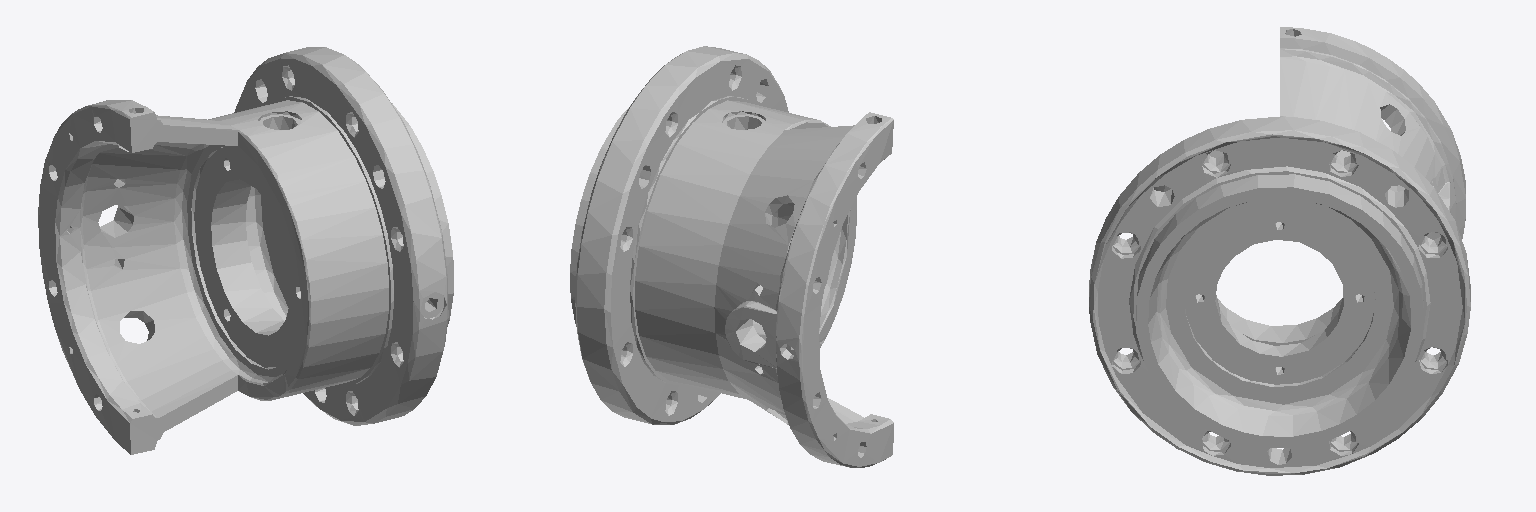
The model's file is end seal housing.obj.
The picture shows the model from 3 angles: view 1: azimuth 30°, elevation 25°; view 2: azimuth 150°, elevation 25°; view 3: azimuth 270°, elevation 25°; orthographic projection.
Parts seen in each view (by area): view 1: imagetostl_mesh0; view 2: imagetostl_mesh0; view 3: imagetostl_mesh0.
Part boxes in pixels (left/top/right/bottom): imagetostl_mesh0: left=38, top=47, right=453, bottom=454; imagetostl_mesh0: left=570, top=46, right=893, bottom=467; imagetostl_mesh0: left=1089, top=27, right=1470, bottom=475.
Size of the model in its own units: 328 by 430 by 431.